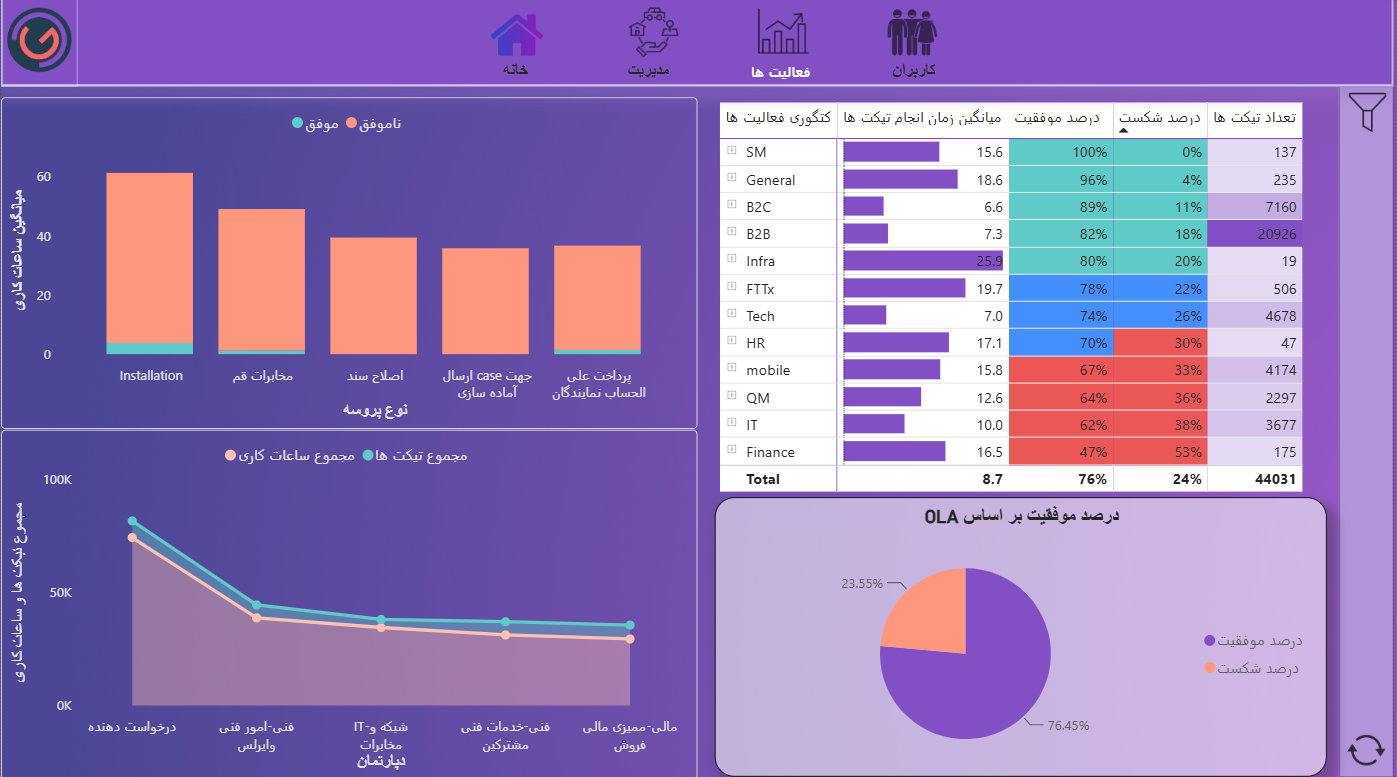

This screenshot's page, from the dashboard's own definition file:
{"tool":"powerbi","page":{"name":"فعالیت ها","canvas":[1280,720],"ordinal":2},"visuals":[{"type":"shape","box":[1228.9,83.2,50.9,635.5],"z":0},{"type":"pivotTable","fields":{"Rows":["TrReport (2).ProcessCategory","TrReport (2).ProcessName"],"Values":["Avg(TrReport (2).Bus Hours Open)","Meesures.Success Rate","Meesures.UnSuccess Rate","CountNonNull(TrReport (2).ObjectId)"]},"box":[656.4,92.5,572.9,368.7],"z":1000},{"type":"image","box":[428.3,7.2,89,59.8],"z":2000,"group":"g2"},{"type":"image","box":[1231.4,87.4,49.2,39],"z":2000,"group":"g1"},{"type":"pieChart","title":"OLA درصد موفقیت بر اساس ","fields":{"Y":["Meesures.Success Rate","Meesures.UnSuccess Rate"]},"box":[656.4,461.2,562.7,256.9],"z":2000},{"type":"image","box":[796.8,6,80.5,50.4],"z":3000,"group":"g2"},{"type":"stackedAreaChart","fields":{"Category":["Process Roles (2).Department"],"Y":["Sum(TrReport (2).Bus Hours Open)","CountNonNull(TrReport (2).ObjectId)"]},"box":[0,398.6,639.8,321.6],"z":3000},{"type":"image","box":[676.5,9.7,84.9,46.5],"z":4000,"group":"g2"},{"type":"columnChart","fields":{"Category":["TrReport (2).ProcessCaseType"],"Y":["Avg(TrReport (2).Bus Hours Open)"],"Series":["TrReport (2).Succsessfulness"]},"box":[0,93,639.8,304.4],"z":4000},{"type":"shape","box":[0,0,1280,83],"z":5000},{"type":"image","box":[559.5,6.3,80.5,50.4],"z":5000,"group":"g2"},{"type":"image","box":[0,0,70.8,83.2],"z":6000},{"type":"image","box":[1229.1,675.6,51.2,34.9],"z":7000},{"type":"group","id":"g1","title":"Group 1","box":[1059,83,221.6,638.2],"z":8000},{"type":"group","id":"g2","title":"Group 1","box":[417.1,6,479.1,77],"z":9000},{"type":"pageNavigator","box":[417.1,54.4,479.1,28.5],"z":9001,"group":"g2"}]}

Visuals, with their boxes in screenshot pixels (x1, y1, x2, y2), scaled from the page's 1280x720 canvas onto the 1397x777 screenshot:
shape: 1341:90:1396:776
pivotTable - TrReport (2).ProcessCategory x TrReport (2).ProcessName: 716:100:1342:498
image: 467:8:565:72
image: 1344:94:1396:136
"OLA درصد موفقیت بر اساس " pieChart: 716:498:1331:775
image: 870:6:957:61
stackedAreaChart - Process Roles (2).Department x Sum(TrReport (2).Bus Hours Open): 0:430:698:776
image: 738:10:831:61
columnChart - TrReport (2).ProcessCaseType x Avg(TrReport (2).Bus Hours Open): 0:100:698:429
shape: 0:0:1396:90
image: 611:7:698:61
image: 0:0:77:90
image: 1341:729:1396:767
"Group 1" group: 1156:90:1396:776
"Group 1" group: 455:6:978:90
pageNavigator: 455:59:978:89
